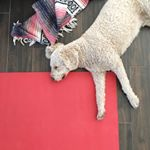puppy: (44, 1, 150, 124)
